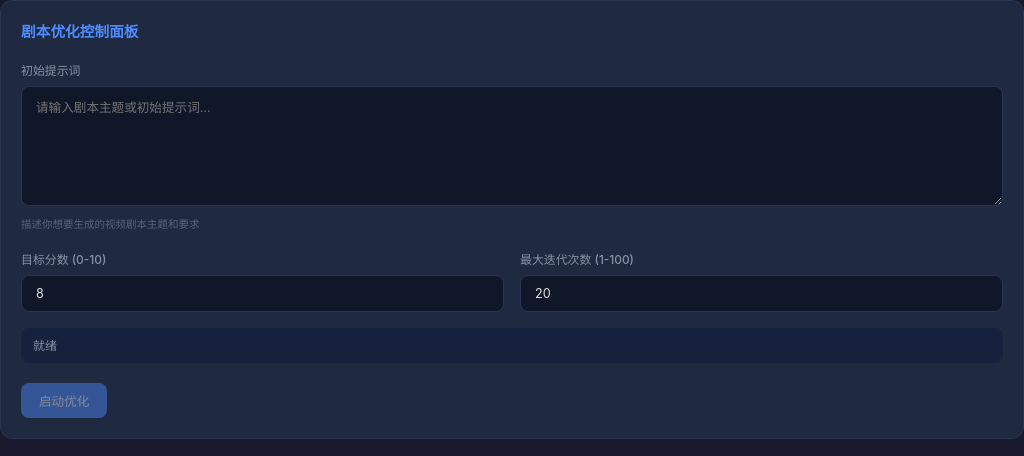
Test: ControlPanel › start button is enabled when prompt has text
This screenshot has width=1024, height=456.
Step 1. Type "测试主题" into the text box labelled "初始提示词" → coordinates (512, 146), box [21,86,1003,206]
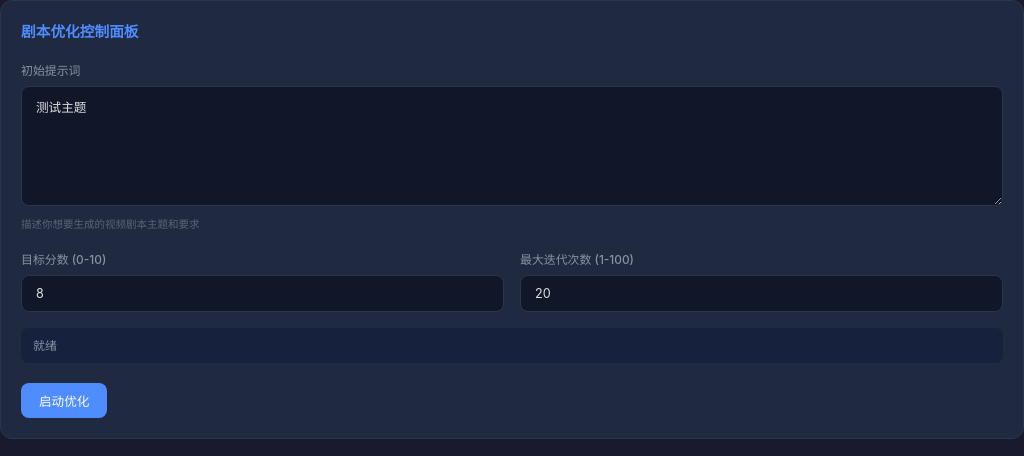
Expected: the button with aria-label "启动剧本优化" is enabled, [21,383,107,418]
